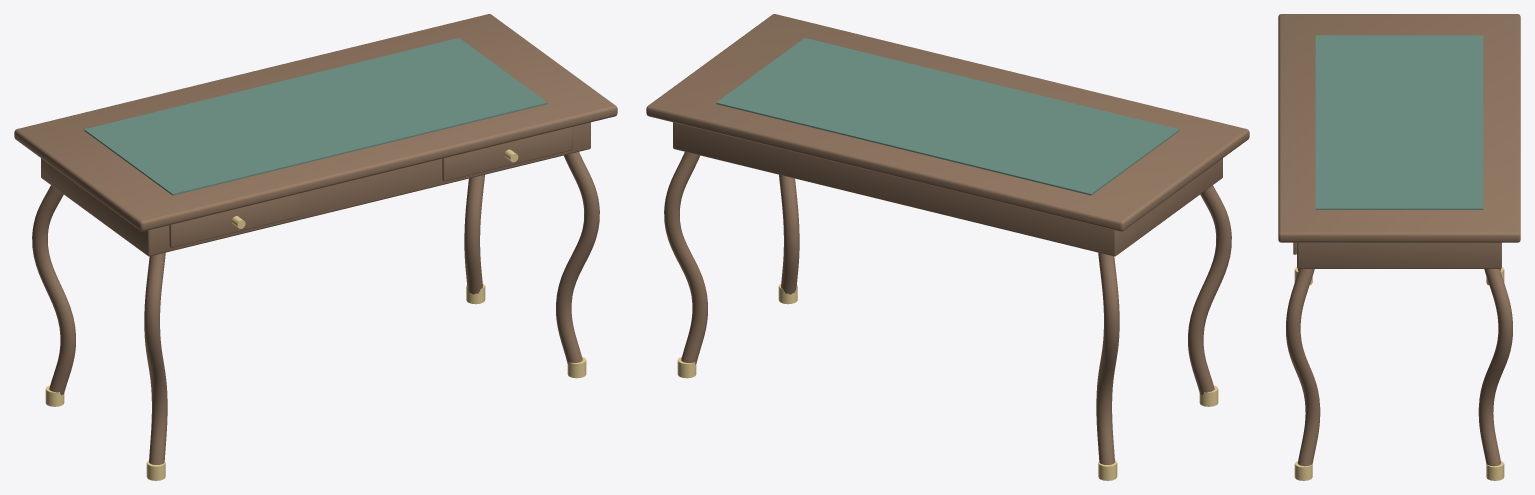
The model's file is desk.glb.
3 renders of one model, left to right at view 1: azimuth 30°, elevation 25°; view 2: azimuth 150°, elevation 25°; view 3: azimuth 270°, elevation 25°, orthographic. The views are drawn at different scales.
Visible parts, largest first — view 1: leather, top, apron, leg.002, leg.001, leg, drawer.001, drawer, leg.003; view 2: leather, top, apron, leg.003, leg, leg.001, leg.002; view 3: leather, top, apron, leg.002, leg.003, sabot.002, sabot.003.
Boxes of the visible parts, <box> form: leather: <box>84,38,547,195</box>; top: <box>14,14,617,231</box>; apron: <box>41,122,590,256</box>; leg.002: <box>556,152,599,364</box>; leg.001: <box>32,185,75,395</box>; leg: <box>144,252,167,464</box>; drawer.001: <box>442,127,572,181</box>; drawer: <box>169,193,299,247</box>; leg.003: <box>464,175,484,294</box>; leather: <box>716,38,1179,195</box>; top: <box>646,14,1249,231</box>; apron: <box>673,122,1222,256</box>; leg.003: <box>664,152,707,364</box>; leg: <box>1188,185,1231,395</box>; leg.001: <box>1096,252,1119,464</box>; leg.002: <box>779,175,799,294</box>; leather: <box>1315,35,1483,209</box>; top: <box>1278,14,1520,242</box>; apron: <box>1297,242,1501,268</box>; leg.002: <box>1286,269,1320,466</box>; leg.003: <box>1478,269,1512,466</box>; sabot.002: <box>1294,461,1312,480</box>; sabot.003: <box>1486,461,1504,480</box>.
Size of the model in its own units: 1.4 by 0.764 by 0.65.
